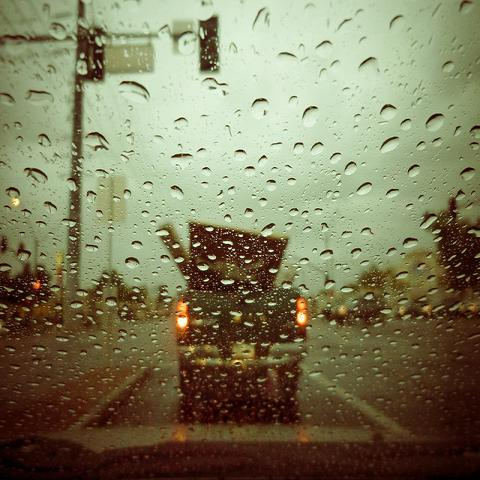car: (178, 221, 305, 415), (331, 294, 386, 326)
truck: (152, 222, 309, 406)
